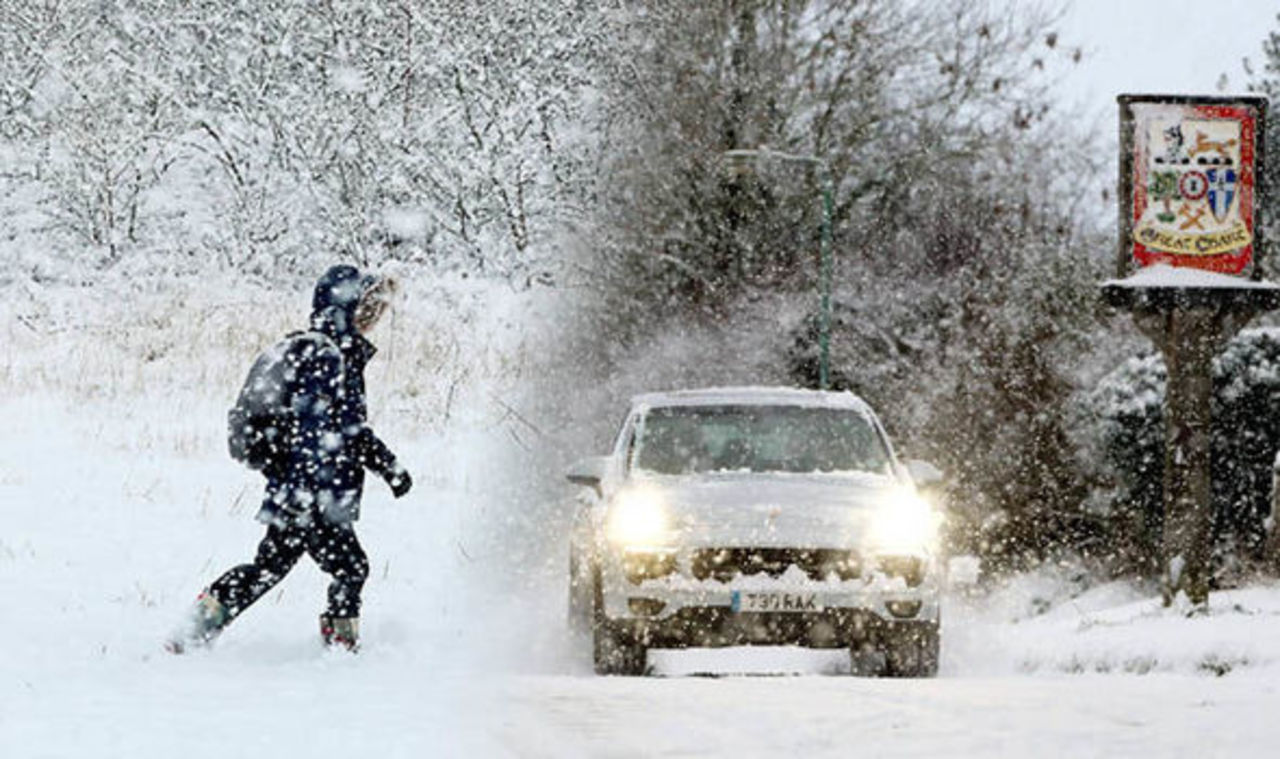car: (563, 388, 948, 685)
person: (192, 264, 411, 653)
